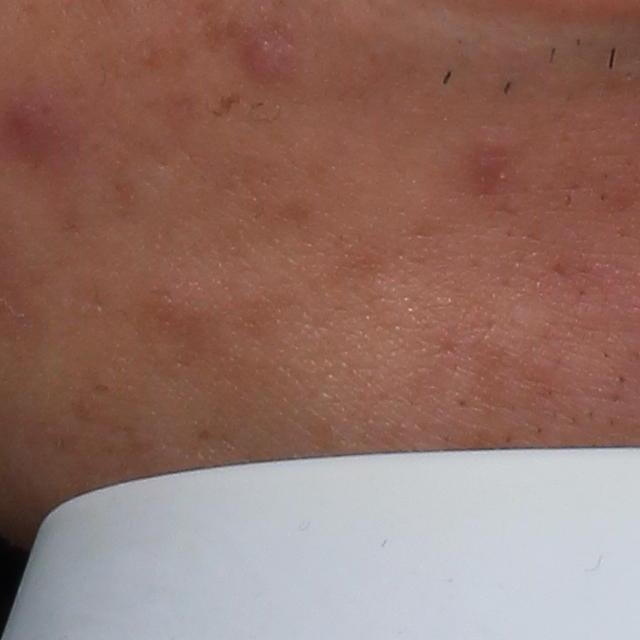papule: (237, 36, 290, 88)
